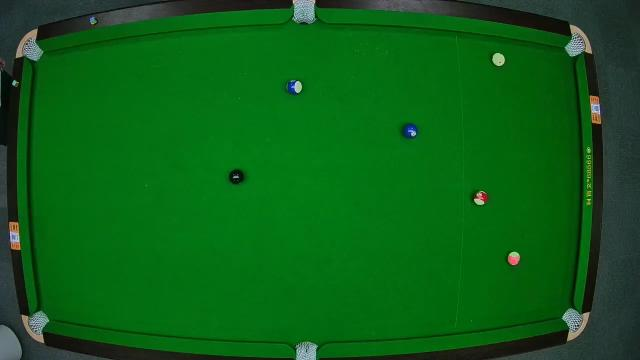bag1: (22, 39, 42, 61)
bag2: (292, 0, 318, 24)
bag3: (564, 33, 588, 55)
bag4: (27, 310, 48, 334)
bag5: (293, 340, 319, 360)
bag6: (562, 308, 582, 330)
ball0: (492, 52, 504, 68)
ball10: (287, 78, 303, 96)
ball11: (474, 190, 486, 206)
ball12: (508, 250, 520, 266)
ball2: (402, 124, 418, 138)
ball8: (228, 170, 244, 184)
